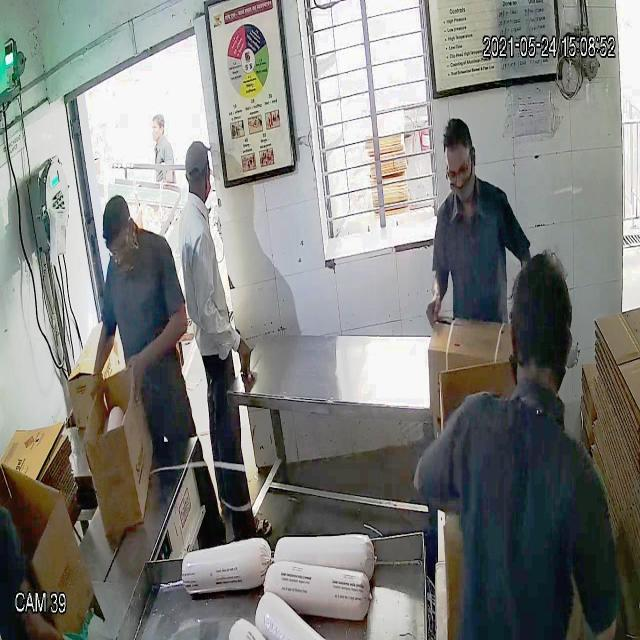glasses: (438, 154, 480, 186)
